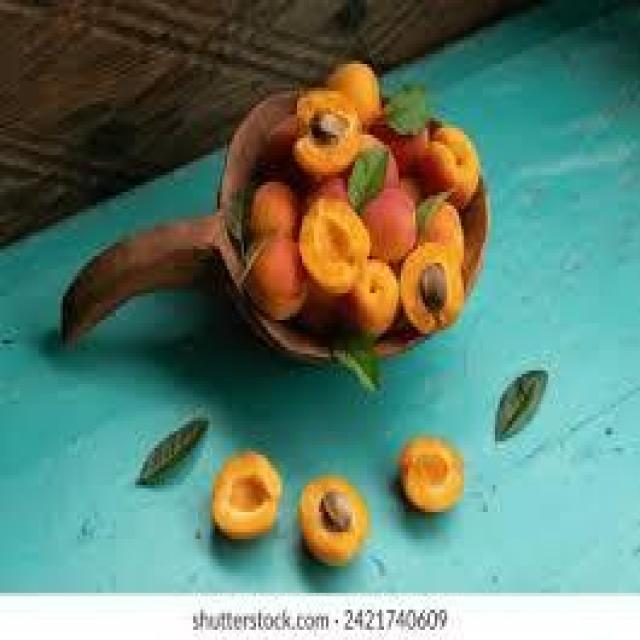cekirdek: (414, 264, 451, 321), (307, 97, 347, 146), (320, 484, 358, 533)
kayisi: (294, 462, 375, 566), (295, 200, 373, 297), (292, 84, 364, 188), (400, 239, 470, 345), (210, 448, 287, 541), (393, 430, 468, 518)
yaprak: (130, 420, 209, 488), (490, 366, 553, 442), (324, 321, 381, 399), (344, 134, 391, 212), (379, 82, 431, 145)
